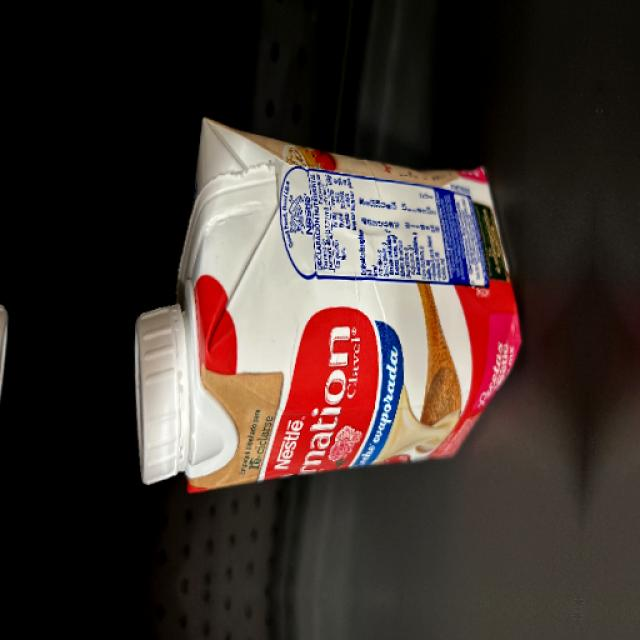nestleCarnation: (143, 143, 506, 470)
